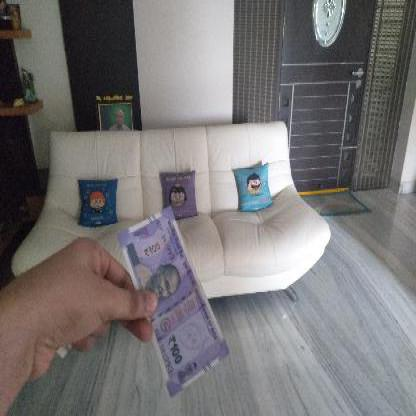New100Front: (121, 205, 226, 396)
